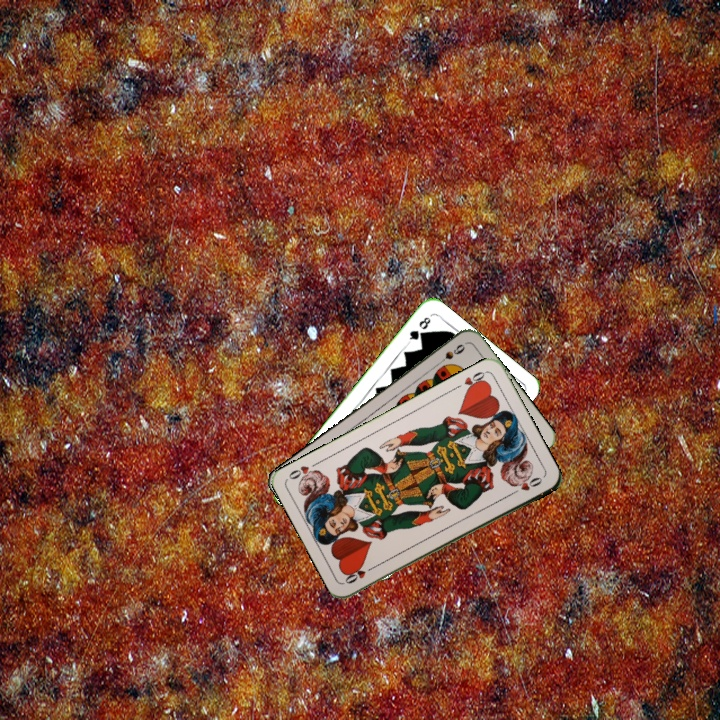G8: (404, 313, 433, 346)
HO: (451, 367, 489, 394), (341, 561, 379, 586)
S9: (433, 340, 468, 368)
